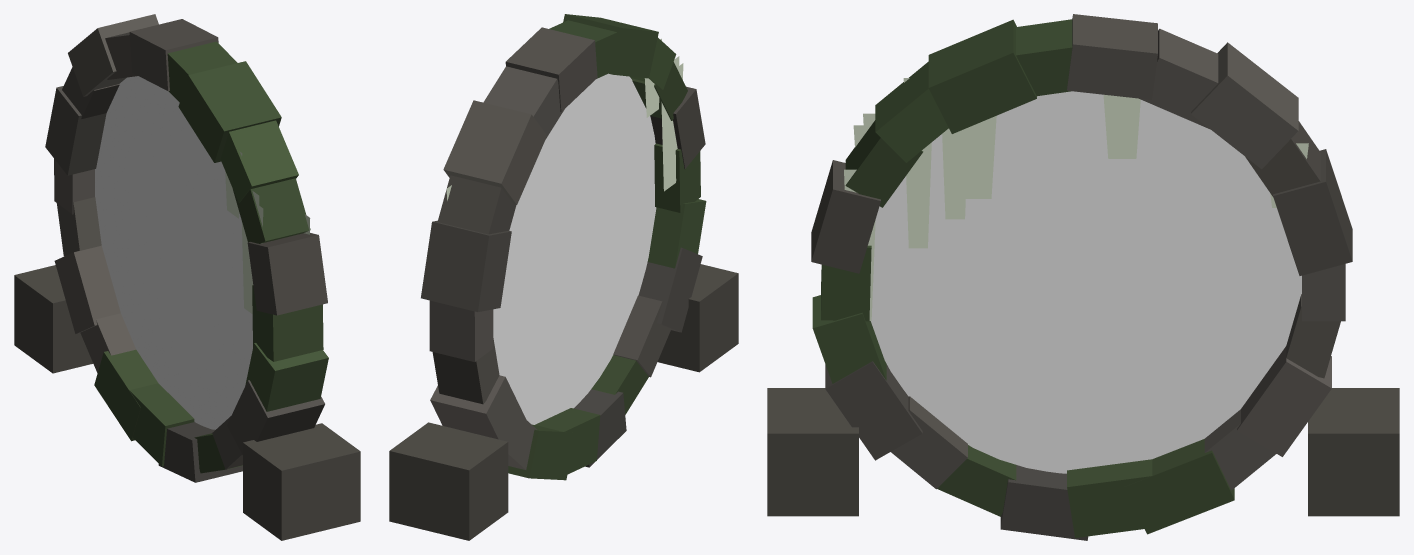
File: SM_Portal.fbx
3 views of the same model, side by side, from view 1: azimuth 30°, elevation 25°; view 2: azimuth 150°, elevation 25°; view 3: azimuth 270°, elevation 25° (orthographic). The views are drawn at different scales.
Parts seen in each view (by area): view 1: SM_Portal; view 2: SM_Portal; view 3: SM_Portal.
Boxes of the visible parts, x1=… form: SM_Portal: x1=14, y1=14, x2=360, y2=540; SM_Portal: x1=389, y1=14, x2=738, y2=540; SM_Portal: x1=767, y1=14, x2=1399, y2=540.
Bounding box in the file's own units: 1.3 × 6.58 × 7.6.
